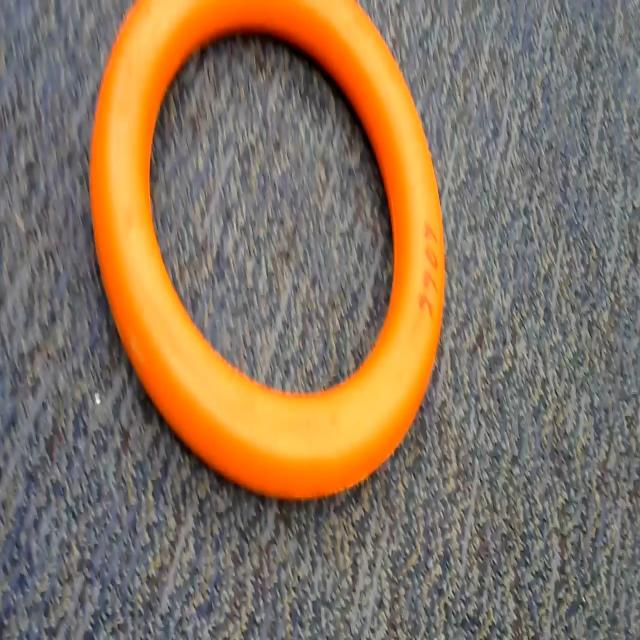note: (89, 0, 452, 514)
